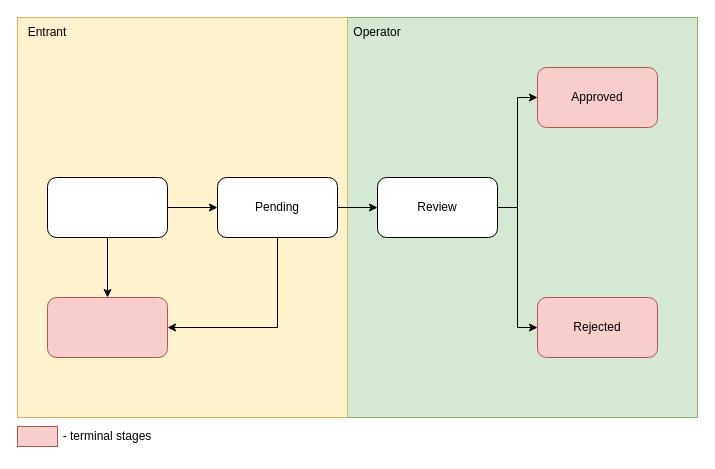
The diagram is 715 pixels wide and 469 high, and some of its shapes have lost their labels. Here are the shapes that lost their labels. From the top down, the centre of each, then its label:
At point (107, 207): "Preparing".
At point (107, 327): "Cancelled".
